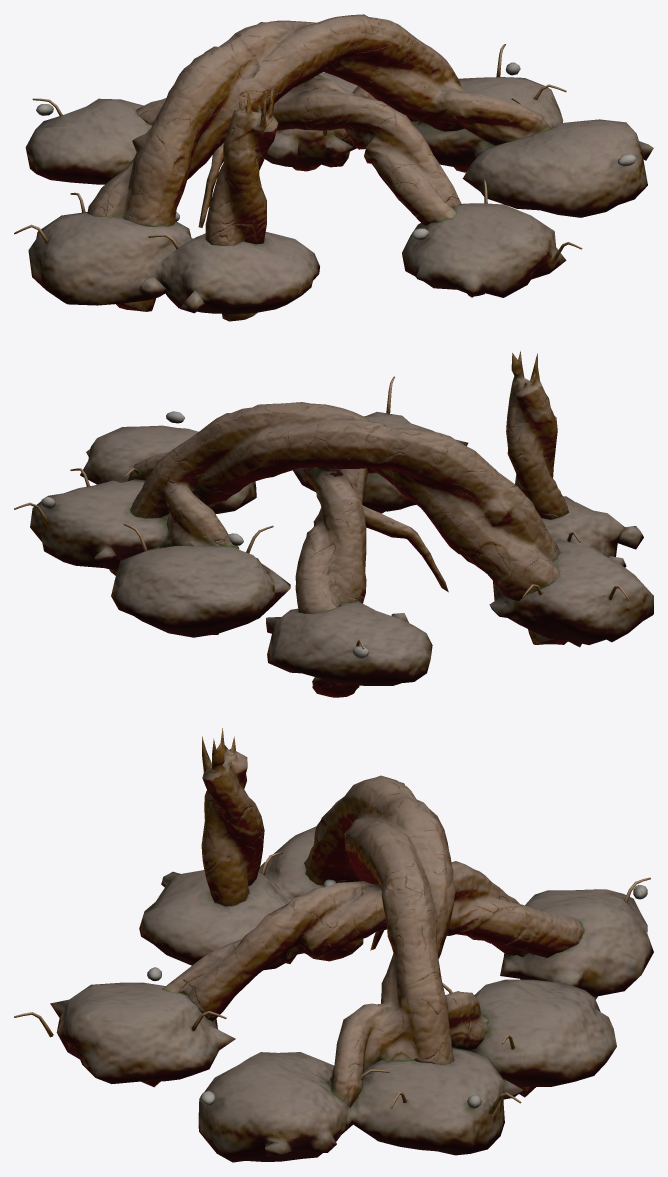
The picture shows the model from 3 angles, top to bottom: view 1: azimuth 30°, elevation 25°; view 2: azimuth 150°, elevation 25°; view 3: azimuth 270°, elevation 25°; orthographic projection. The views are drawn at different scales.
Parts seen in each view (by area): view 1: soil, bark, rootlets, rock; view 2: bark, soil, rootlets, rock; view 3: soil, bark, rootlets, rock.
Boxes of the visible parts, bbox=[...] form: soil: bbox=[25, 72, 653, 314]; bark: bbox=[87, 14, 550, 321]; rootlets: bbox=[14, 44, 582, 262]; rock: bbox=[36, 62, 636, 239]; bark: bbox=[109, 351, 581, 697]; soil: bbox=[30, 412, 653, 685]; rootlets: bbox=[14, 376, 629, 649]; rock: bbox=[41, 411, 368, 658]; soil: bbox=[50, 826, 653, 1162]; bark: bbox=[141, 728, 597, 1107]; rootlets: bbox=[14, 852, 650, 1114]; rock: bbox=[147, 879, 647, 1108].
Bounding box in the file's own units: 2.27 × 0.8847 × 1.93.
4 materials, 4 textured.
